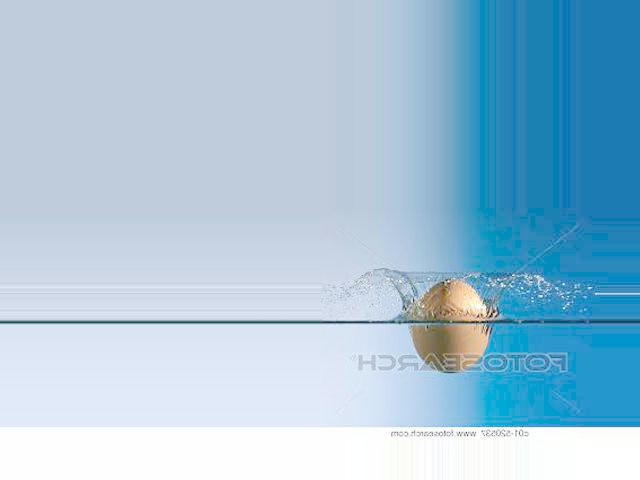egg: (411, 278, 488, 372)
